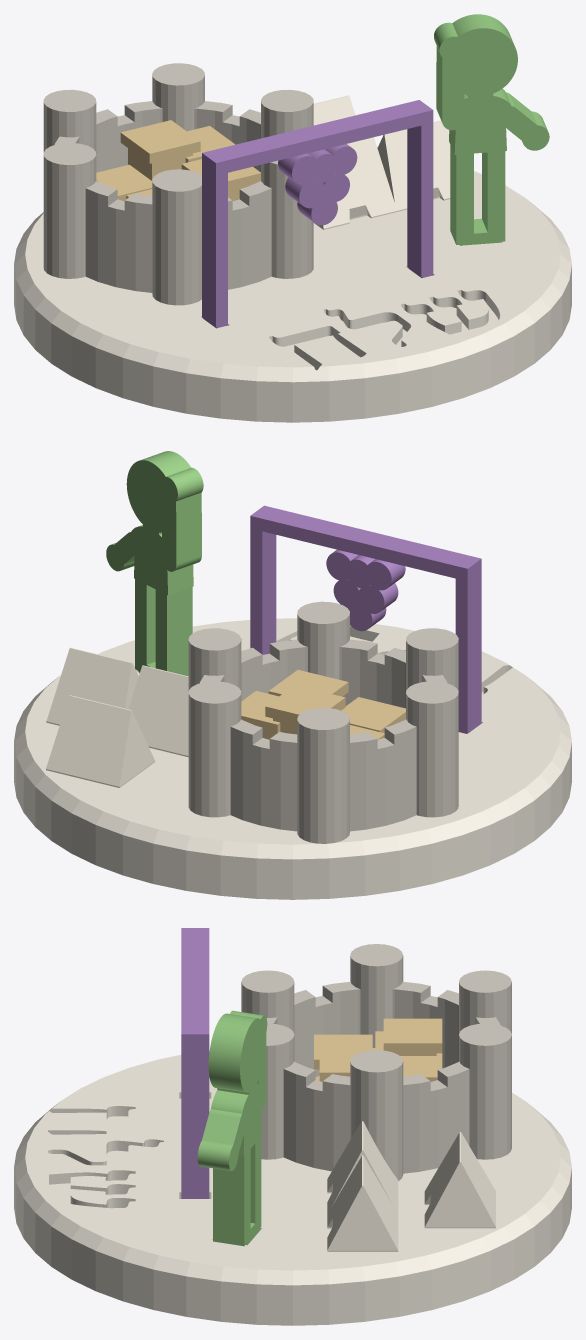
File: shelach.glb
The picture shows the model from 3 angles, top to bottom: view 1: azimuth 30°, elevation 25°; view 2: azimuth 150°, elevation 25°; view 3: azimuth 270°, elevation 25°; orthographic projection.
Parts seen in each view (by area): view 1: stage, walls, pole, spy, houses, tent-3, tent-2, tent-1; view 2: stage, walls, pole, spy, tent-1, houses, tent-3, tent-2; view 3: stage, walls, spy, pole, houses, tent-1, tent-2, tent-3.
Part boxes in pixels (x1,y1,x2,y2): stage: (14, 147, 571, 422); walls: (43, 63, 313, 305); pole: (202, 100, 433, 328); spy: (434, 14, 549, 245); houses: (96, 120, 260, 201); tent-3: (313, 137, 395, 229); tent-2: (377, 120, 450, 212); tent-1: (313, 95, 355, 125); stage: (14, 618, 571, 899); walls: (188, 601, 458, 843); pole: (250, 505, 481, 733); spy: (106, 451, 203, 676); tent-1: (46, 695, 155, 787); houses: (241, 670, 405, 739); tent-3: (128, 665, 188, 757); tent-2: (46, 647, 138, 725); stage: (14, 1050, 571, 1325); walls: (241, 944, 511, 1180); spy: (197, 1010, 267, 1246); pole: (181, 928, 209, 1198); houses: (314, 1018, 442, 1081); tent-1: (424, 1132, 495, 1228); tent-2: (327, 1155, 398, 1251); tent-3: (327, 1121, 398, 1214).
Bounding box in the file's own units: 40 × 21 × 40.
